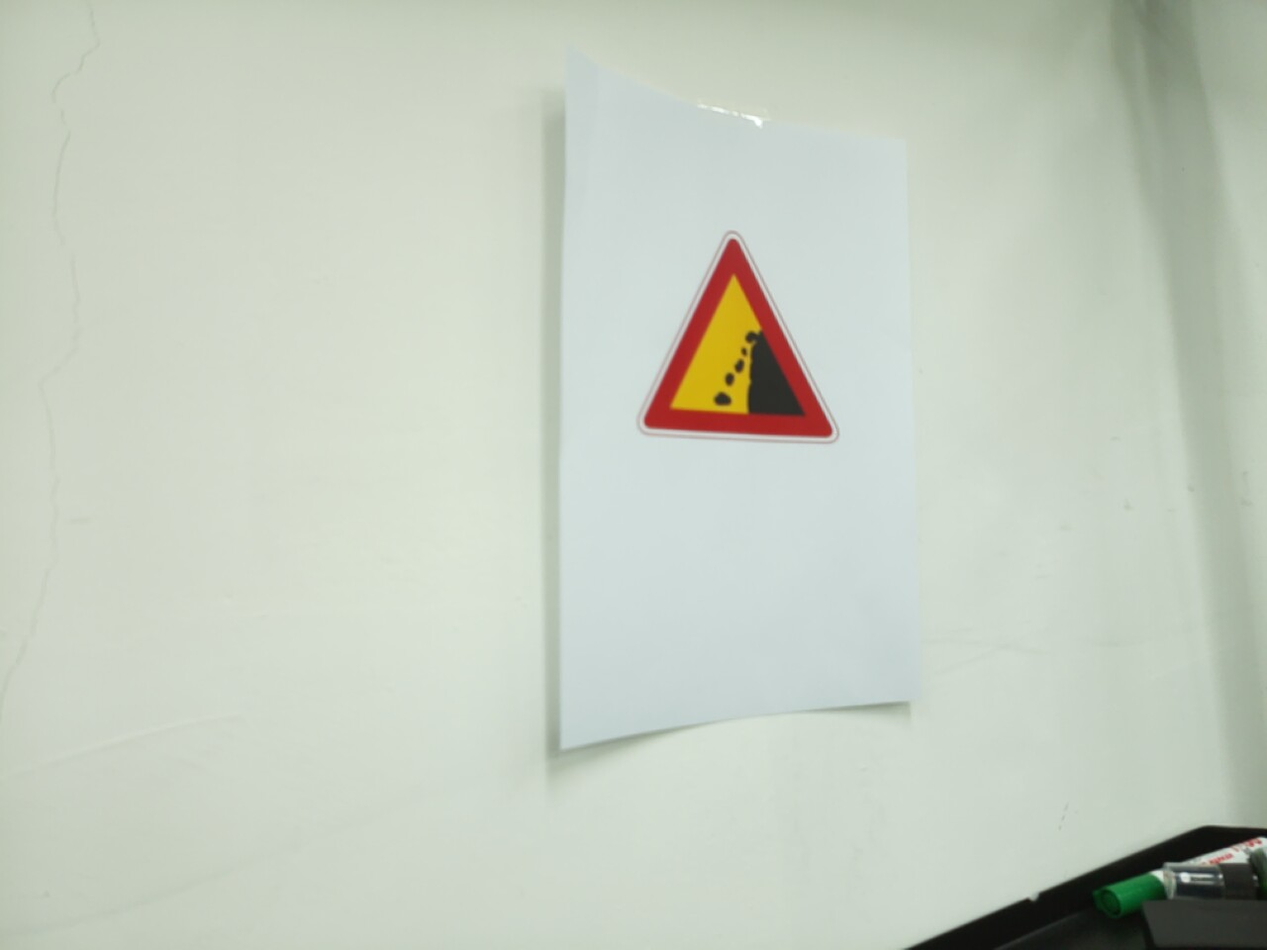falling_rocks: (636, 231, 839, 446)
